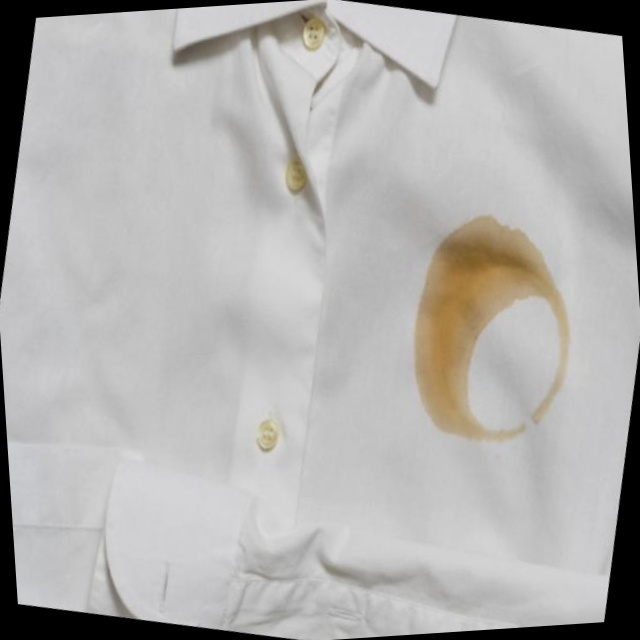coffee: (409, 211, 555, 320), (405, 318, 484, 442)
